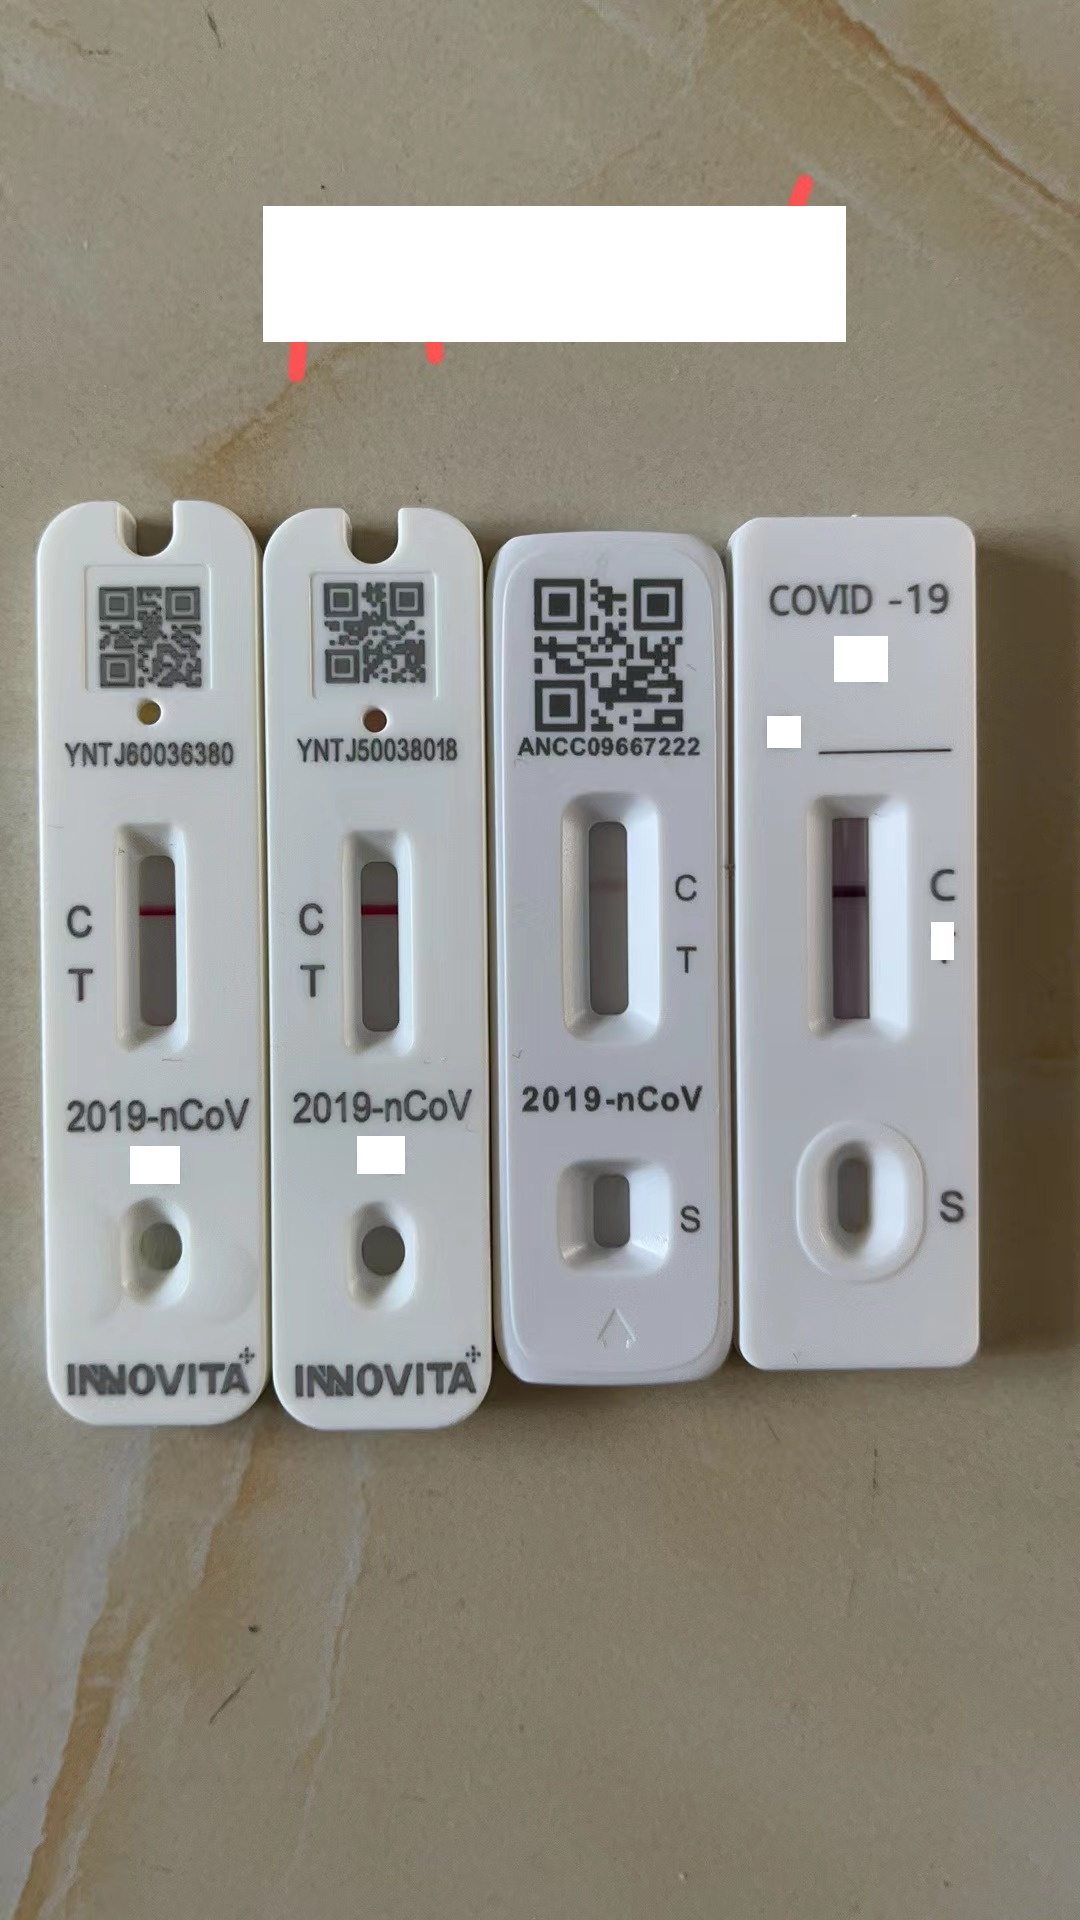negative: (556, 793, 655, 1052), (808, 795, 899, 1054), (116, 825, 193, 1055), (343, 831, 413, 1055)
